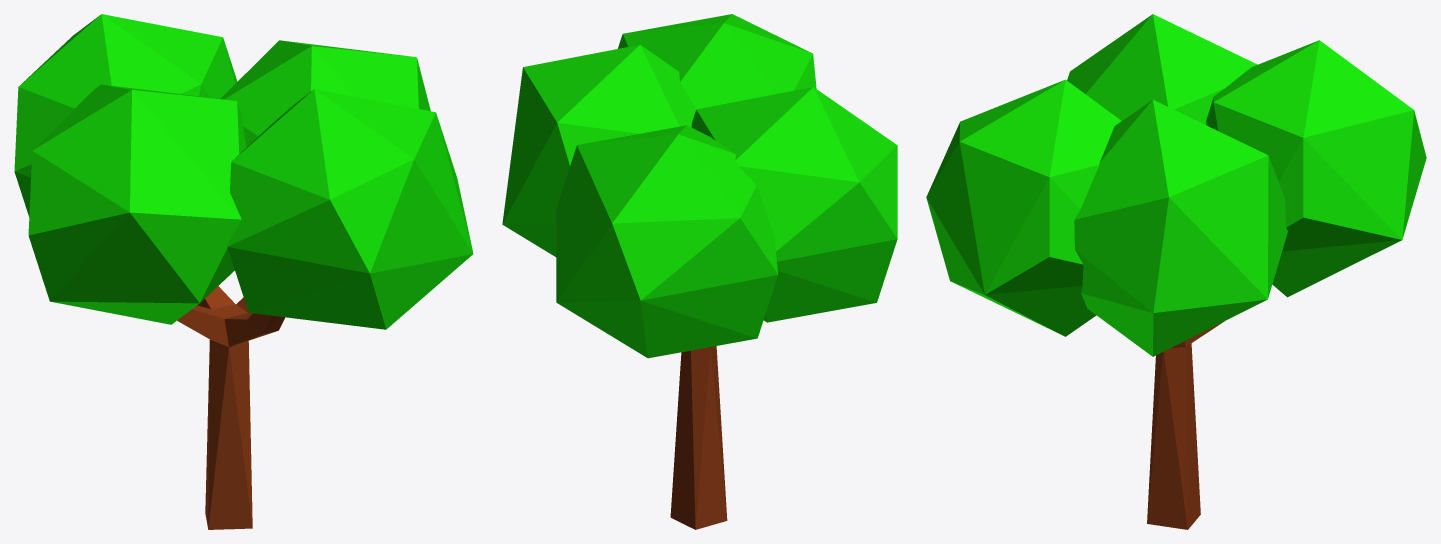
File: tree.fbx
3 views of the same model, side by side, from view 1: azimuth 30°, elevation 25°; view 2: azimuth 150°, elevation 25°; view 3: azimuth 270°, elevation 25° (orthographic). The views are drawn at different scales.
Parts seen in each view (by area): view 1: Tree; view 2: Tree; view 3: Tree.
Boxes of the visible parts, bbox=[...] form: Tree: bbox=[14, 14, 473, 529]; Tree: bbox=[502, 14, 897, 529]; Tree: bbox=[926, 14, 1426, 529].
Bounding box in the file's own units: 827 × 899 × 898.
